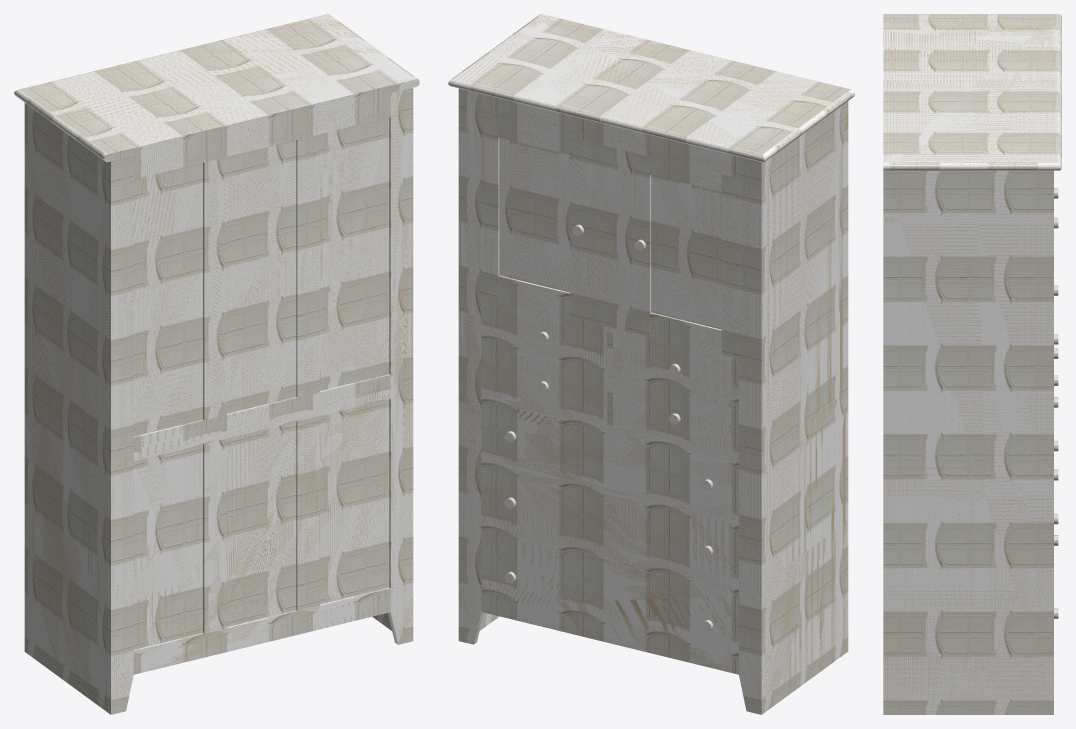
The picture shows the model from 3 angles, left to right: view 1: azimuth 30°, elevation 25°; view 2: azimuth 150°, elevation 25°; view 3: azimuth 270°, elevation 25°; orthographic projection.
Parts seen in each view (by area): view 1: mesh2_mesh2-geometry; view 2: mesh2_mesh2-geometry, mesh1_mesh1-geometry; view 3: mesh2_mesh2-geometry, mesh1_mesh1-geometry.
Boxes of the visible parts, <box> form: mesh2_mesh2-geometry: <box>14,14,419,714</box>; mesh2_mesh2-geometry: <box>448,14,854,714</box>; mesh1_mesh1-geometry: <box>504,224,713,631</box>; mesh2_mesh2-geometry: <box>883,14,1061,714</box>; mesh1_mesh1-geometry: <box>1054,188,1058,618</box>.
Bounding box in the file's own units: 0.4916 × 0.836 × 0.2436.
